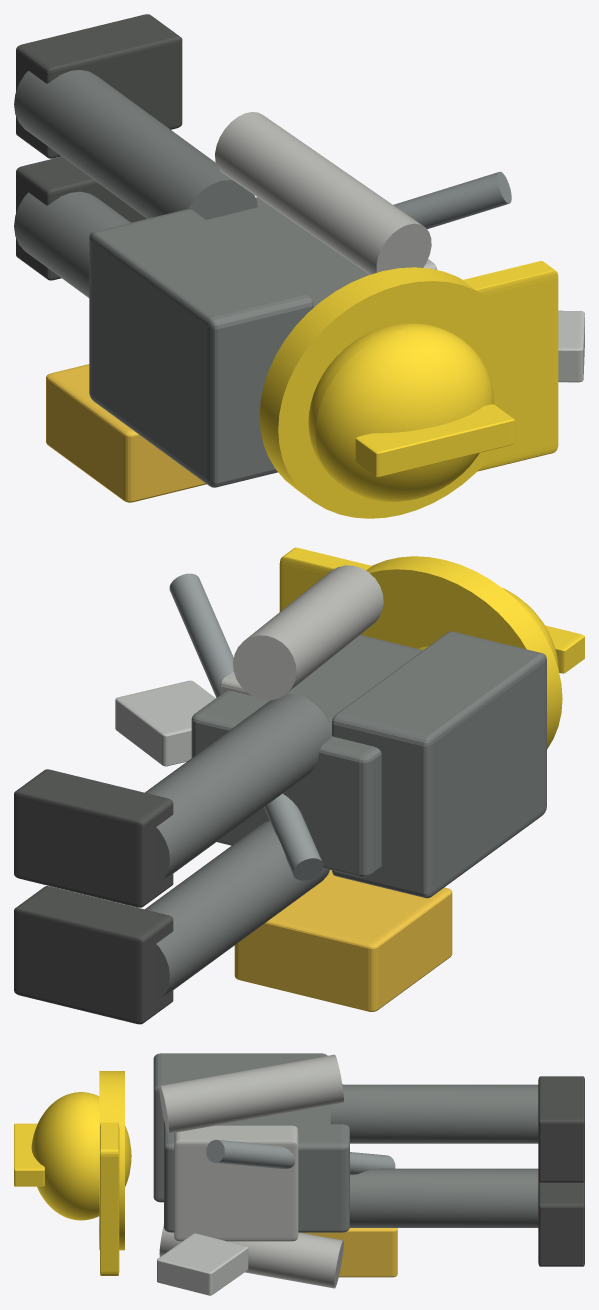
File: c-u01-engineer-lod1.glb
3 renders of one model, top to bottom at view 1: azimuth 30°, elevation 25°; view 2: azimuth 150°, elevation 25°; view 3: azimuth 270°, elevation 25°, orthographic. The views are drawn at different scales.
Visible parts, largest first — view 1: soldier_0_backpack, soldier_0_engineer_hardhat_brim, soldier_0_engineer_hardhat_crown, soldier_0_leg_1, soldier_0_arm_1, soldier_0_boot_1, soldier_0_engineer_tool_satchel, soldier_0_engineer_hardhat_front, soldier_0_torso, soldier_0_leg_-1, soldier_0_engineer_hardhat_ridge, soldier_0_boot_-1 (+2 smaller); view 2: soldier_0_backpack, soldier_0_engineer_tool_satchel, soldier_0_torso, soldier_0_boot_-1, soldier_0_boot_1, soldier_0_leg_1, soldier_0_leg_-1, soldier_0_engineer_hardhat_brim, soldier_0_arm_1, soldier_0_engineer_tool_handle, soldier_0_engineer_wrench_head, soldier_0_engineer_hardhat_front (+1 smaller); view 3: soldier_0_chest, soldier_0_leg_1, soldier_0_leg_-1, soldier_0_arm_1, soldier_0_torso, soldier_0_engineer_hardhat_crown, soldier_0_boot_1, soldier_0_backpack, soldier_0_arm_-1, soldier_0_engineer_wrench_head, soldier_0_boot_-1, soldier_0_engineer_hardhat_front (+4 smaller).
Boxes of the visible parts, x1,y1,x2,y2 form: soldier_0_backpack: [89, 209, 313, 487]; soldier_0_engineer_hardhat_brim: [259, 267, 523, 518]; soldier_0_engineer_hardhat_crown: [308, 323, 493, 501]; soldier_0_leg_1: [14, 70, 257, 219]; soldier_0_arm_1: [215, 112, 431, 274]; soldier_0_boot_1: [16, 14, 182, 158]; soldier_0_engineer_tool_satchel: [46, 364, 206, 502]; soldier_0_engineer_hardhat_front: [462, 261, 558, 471]; soldier_0_torso: [206, 197, 369, 307]; soldier_0_leg_-1: [14, 191, 130, 297]; soldier_0_engineer_hardhat_ridge: [355, 404, 514, 477]; soldier_0_boot_-1: [16, 156, 146, 280]; soldier_0_backpack: [332, 631, 546, 898]; soldier_0_engineer_tool_satchel: [234, 870, 452, 1011]; soldier_0_torso: [191, 635, 422, 877]; soldier_0_boot_-1: [14, 886, 173, 1024]; soldier_0_boot_1: [14, 769, 173, 907]; soldier_0_leg_1: [145, 693, 332, 885]; soldier_0_leg_-1: [145, 821, 329, 1001]; soldier_0_engineer_hardhat_brim: [360, 556, 562, 749]; soldier_0_arm_1: [233, 565, 383, 700]; soldier_0_engineer_tool_handle: [169, 573, 323, 880]; soldier_0_engineer_wrench_head: [115, 680, 215, 766]; soldier_0_engineer_hardhat_front: [279, 547, 371, 611]; soldier_0_chest: [174, 1125, 298, 1241]; soldier_0_leg_1: [330, 1084, 538, 1143]; soldier_0_leg_-1: [350, 1168, 538, 1227]; soldier_0_arm_1: [159, 1054, 343, 1133]; soldier_0_torso: [164, 1084, 349, 1232]; soldier_0_engineer_hardhat_crown: [31, 1092, 131, 1220]; soldier_0_boot_1: [538, 1076, 584, 1182]; soldier_0_backpack: [153, 1053, 327, 1202]; soldier_0_arm_-1: [159, 1224, 343, 1288]; soldier_0_engineer_wrench_head: [157, 1233, 248, 1295]; soldier_0_boot_-1: [538, 1179, 584, 1266]; soldier_0_engineer_hardhat_front: [100, 1122, 119, 1275].
Size of what is drawn, in the model's own units: 1.27 by 0.9606 by 2.21.
